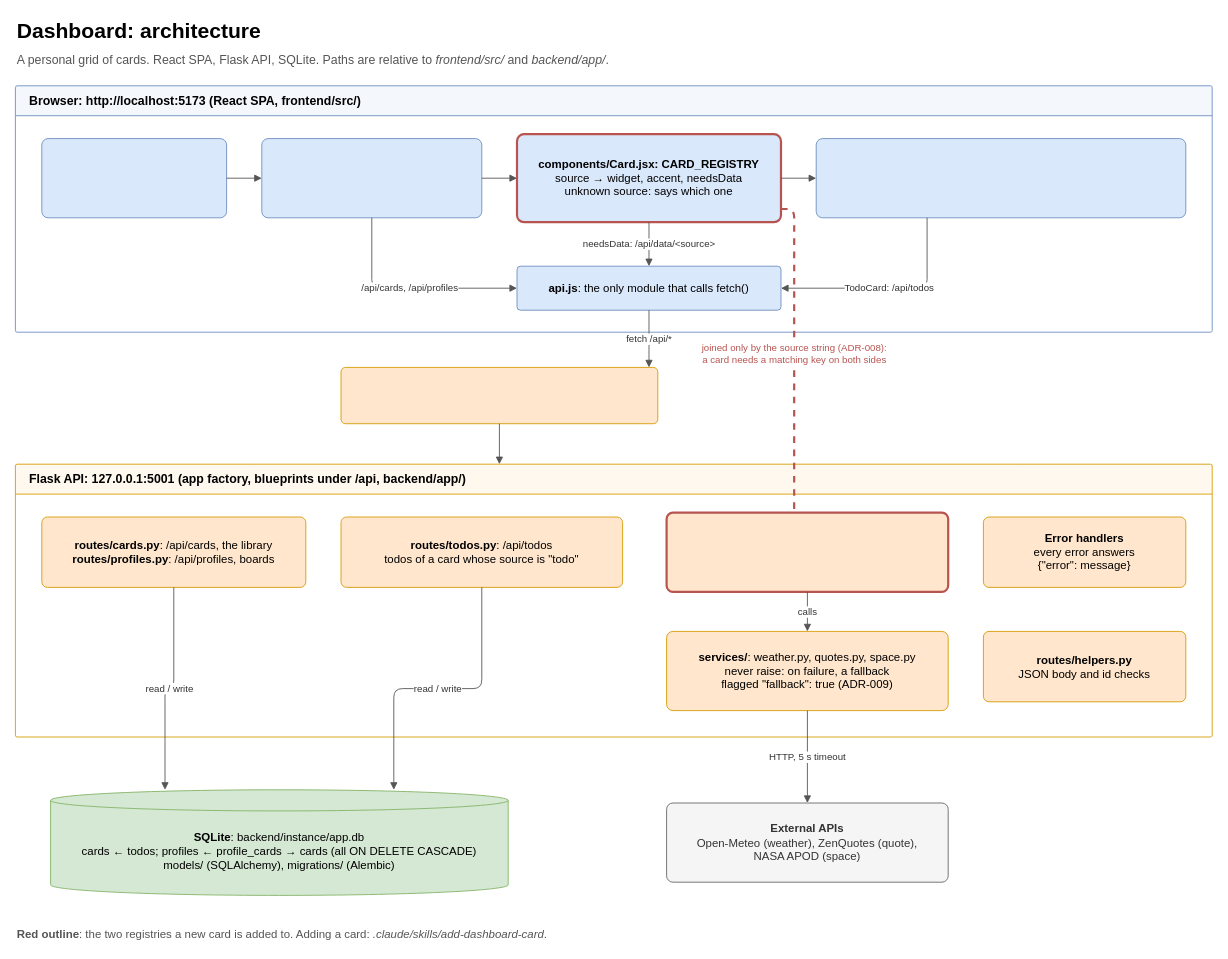
Image size: 1228x959. Some labels were removed from this diagram. Each missing label, with the centre of its shape:
App.jsx header: profile menu, Library drawer, Customize, clock: point (134, 178)
components/cards/ WeatherCard, QuoteCard, SpaceCard, TodoCard, PlaceholderCard: point (1000, 178)
components/Dashboard.jsx the shown profile's grid; useBoard.js owns and saves it: point (371, 178)
routes/data.py: SERVICES /api/data/<source> source → service.fetch(): point (807, 552)
Vite dev server :5173 proxies /api → 127.0.0.1:5001: point (499, 395)
